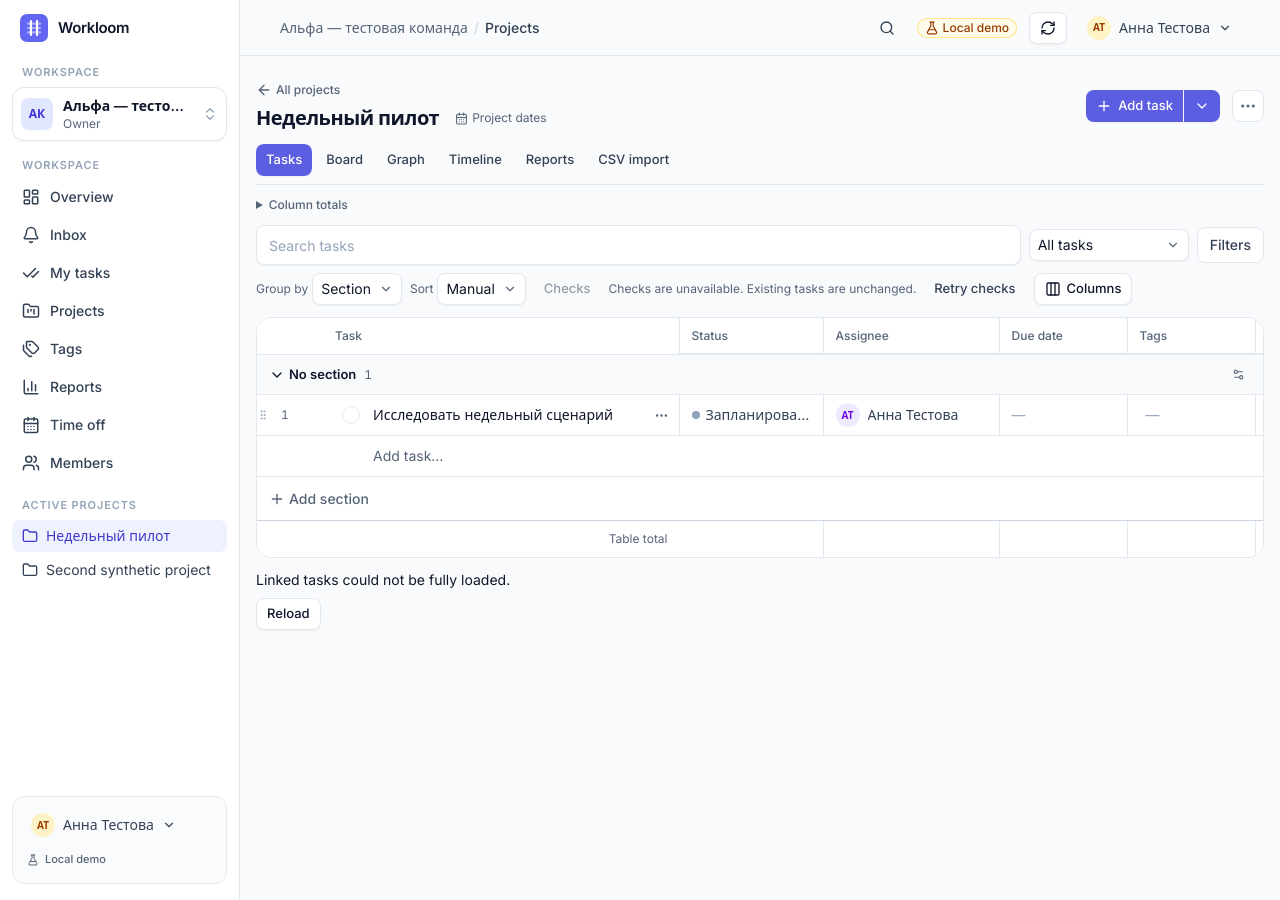
it: sidebar project list › sends a typed quick task when the sidebar link takes the focus, and still asks before leaving while it is unanswered
Click the button with aria-label "Add task without a section".
click(408, 456)  # box [373, 440, 953, 472]
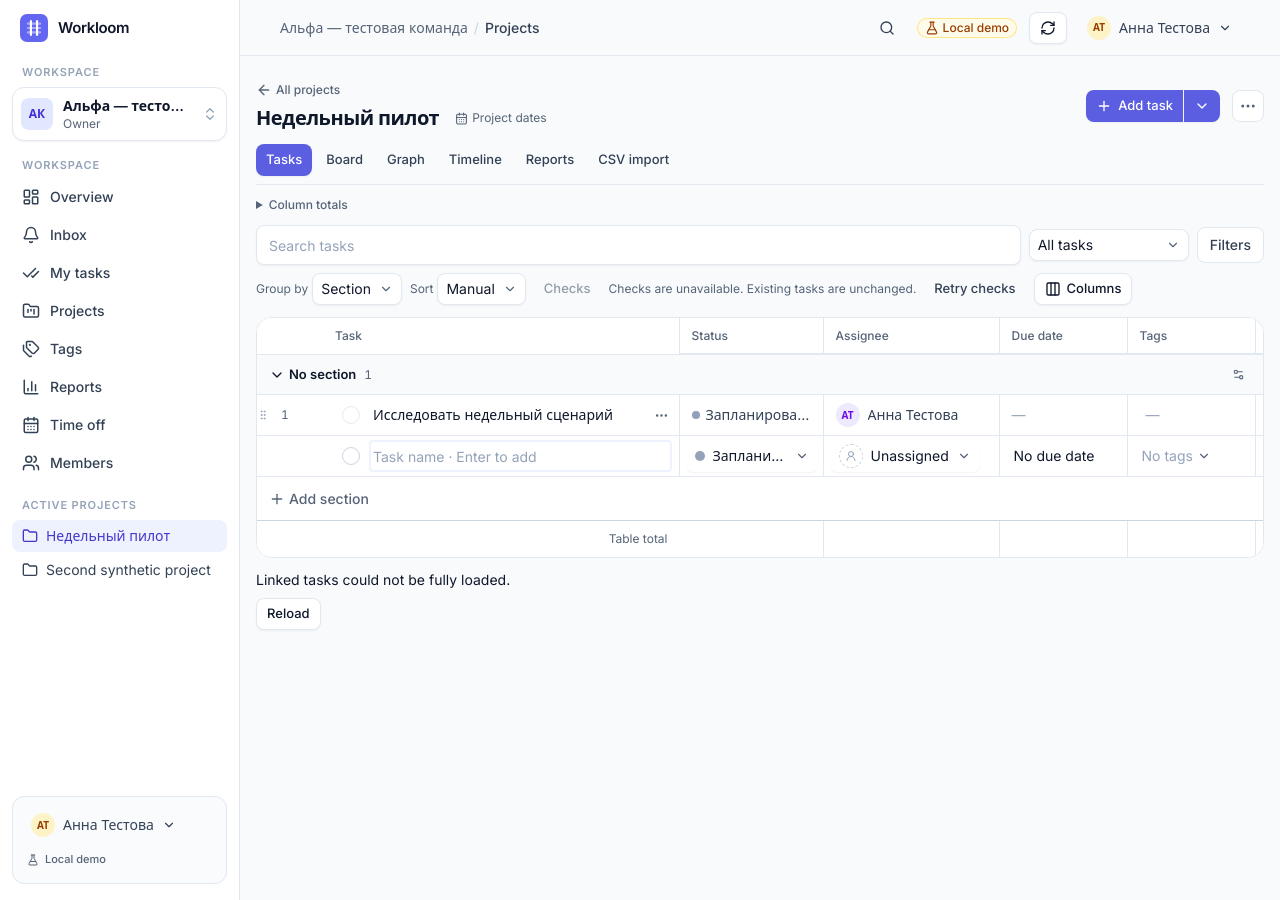
Type "Unsent sidebar draft" into the field labelled "Task name".
click(520, 456); type("Unsent sidebar draft")  # box [369, 440, 672, 472]
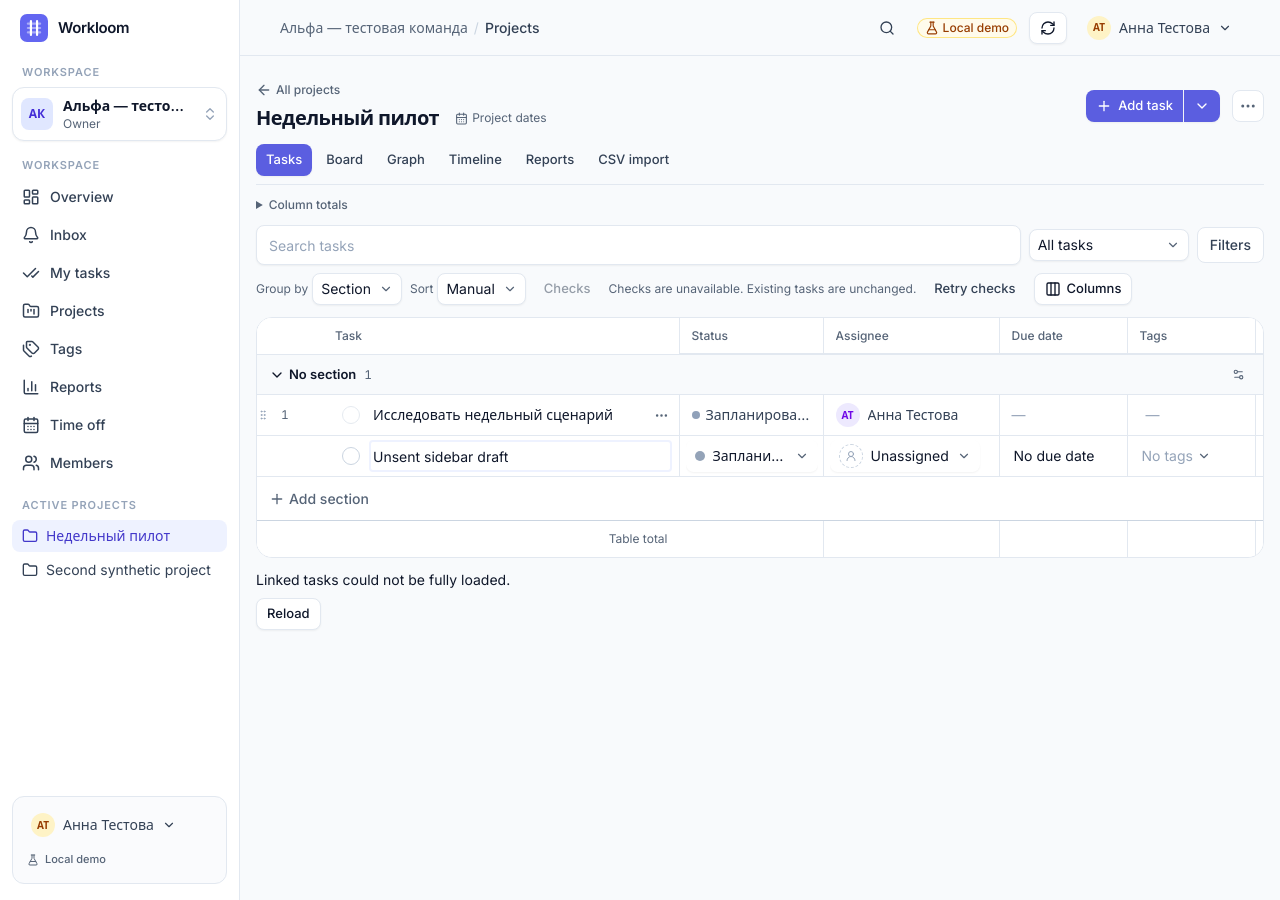
Click the link "Second synthetic project".
click(116, 569)  # box [22, 560, 211, 578]
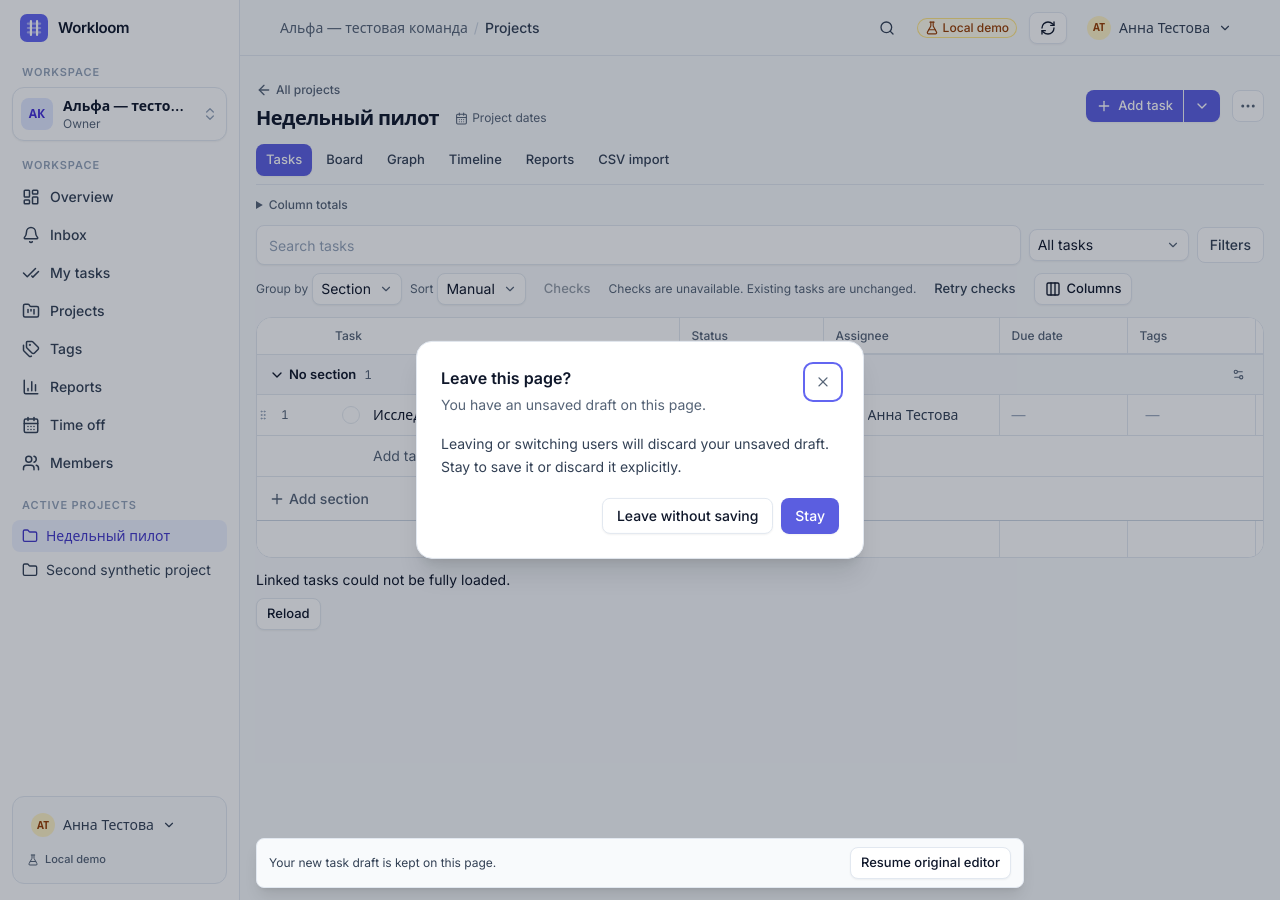
Click the button "Stay".
click(810, 516)  # box [781, 498, 839, 534]
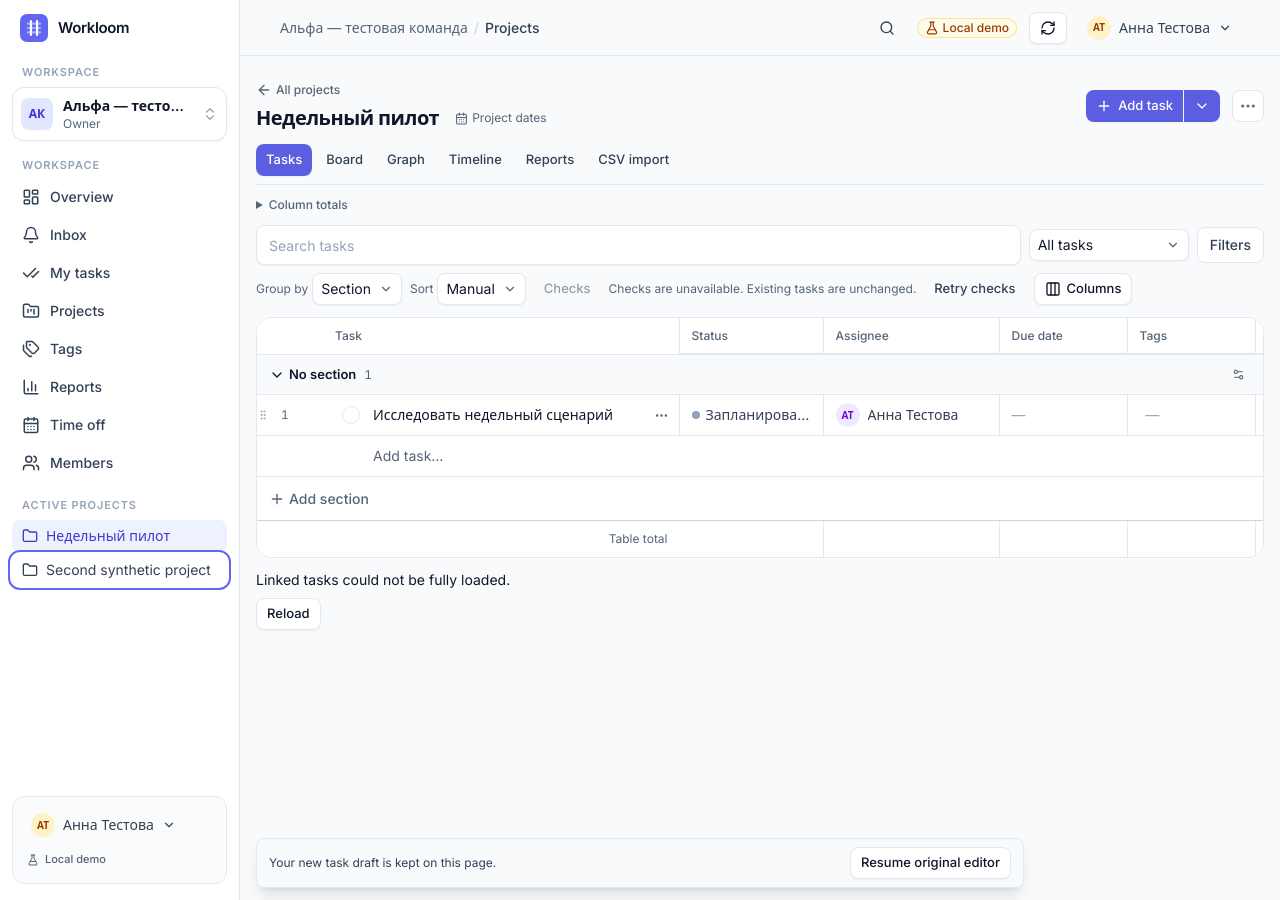
Result: the heading "Leave this page?" is gone
